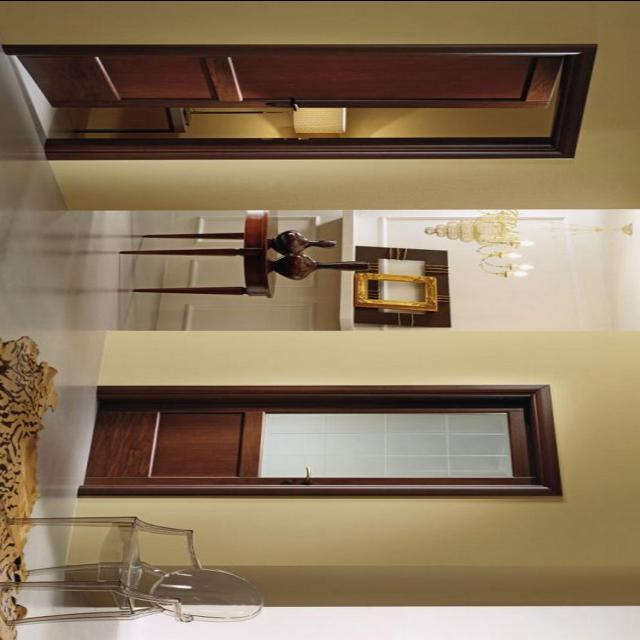close: (94, 390, 562, 493)
open: (24, 45, 568, 158)
